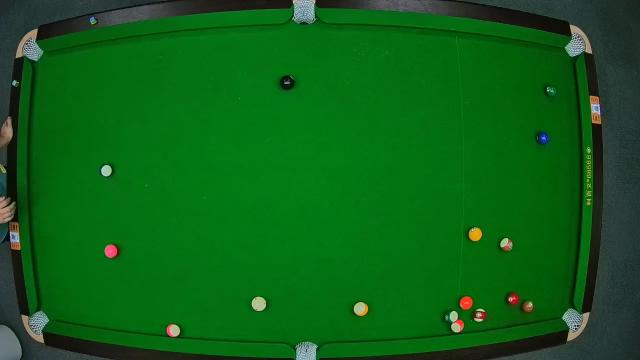bag1: (24, 40, 40, 62)
bag2: (292, 2, 316, 22)
bag3: (566, 34, 584, 56)
bag4: (27, 310, 49, 336)
bag5: (295, 342, 319, 360)
bag6: (562, 308, 584, 332)
ball0: (250, 296, 266, 312)
ball1: (468, 226, 484, 243)
ball10: (98, 164, 114, 180)
ball11: (471, 308, 485, 324)
ball12: (165, 323, 181, 337)
ball13: (451, 318, 463, 334)
ball14: (444, 310, 458, 324)
ball15: (500, 237, 516, 253)
ball2: (536, 130, 550, 146)
ball3: (506, 293, 518, 305)
ball4: (104, 243, 120, 259)
ball5: (458, 296, 474, 310)
ball6: (544, 82, 560, 98)
ball7: (522, 300, 536, 316)
ball8: (280, 75, 296, 89)
ball9: (352, 301, 370, 317)
